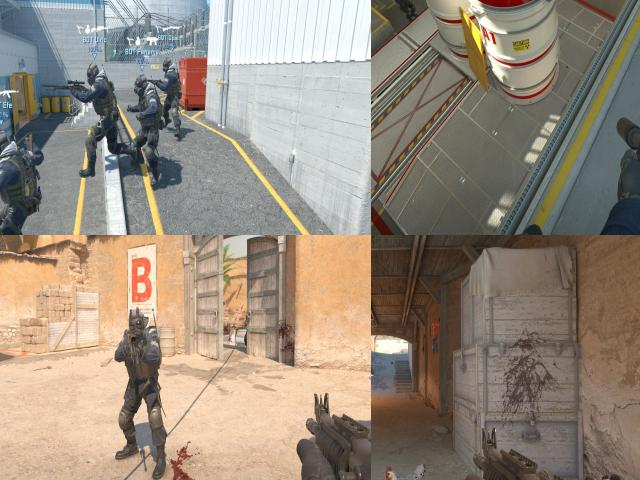CT: (122, 307, 164, 472), (0, 133, 39, 235), (88, 62, 114, 174), (134, 76, 160, 174), (164, 59, 182, 139), (394, 0, 411, 25)
CT-Head: (128, 309, 146, 335), (86, 64, 100, 84), (0, 132, 9, 161), (136, 75, 148, 94), (162, 58, 173, 71)
